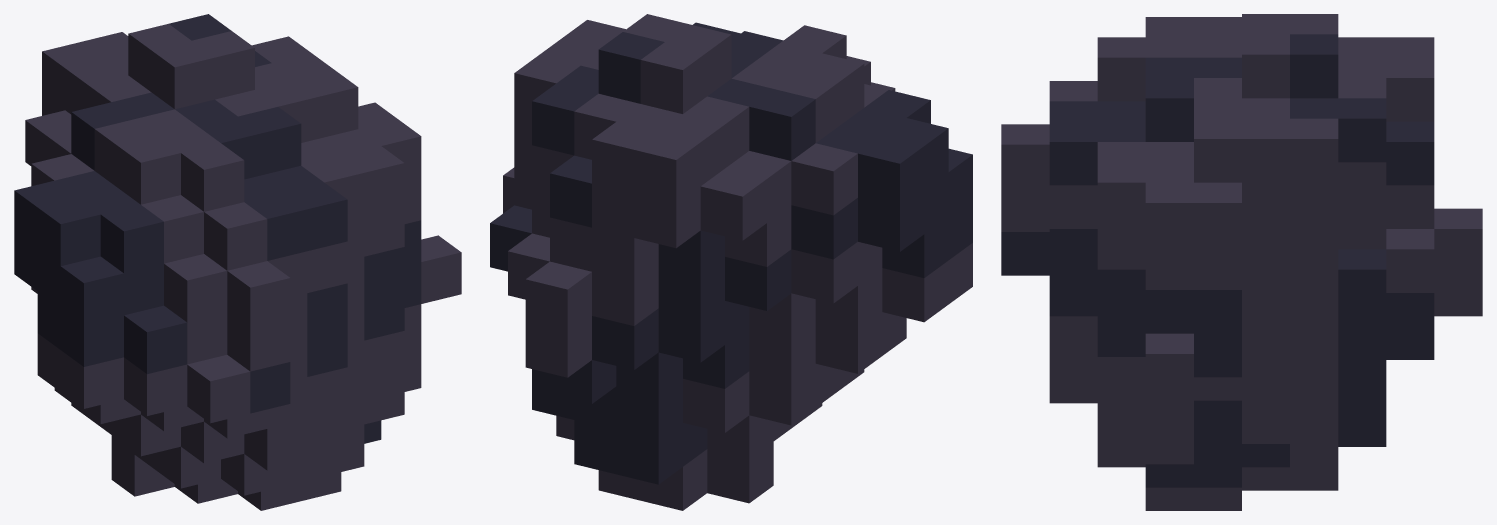
File: meteoro-0.obj
3 views of the same model, side by side, from view 1: azimuth 30°, elevation 25°; view 2: azimuth 150°, elevation 25°; view 3: azimuth 270°, elevation 25° (orthographic). The views are drawn at different scales.
Size of the model in its own units: 1 by 1 by 1.
Materials: 1 (1 with a texture image).
